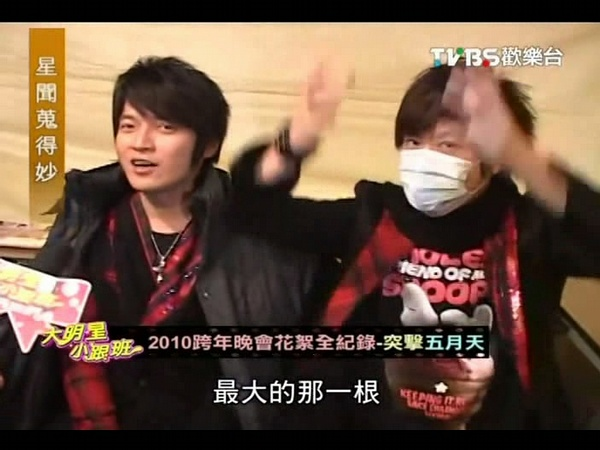face: (114, 88, 191, 192)
face_mask: (401, 116, 473, 213)
